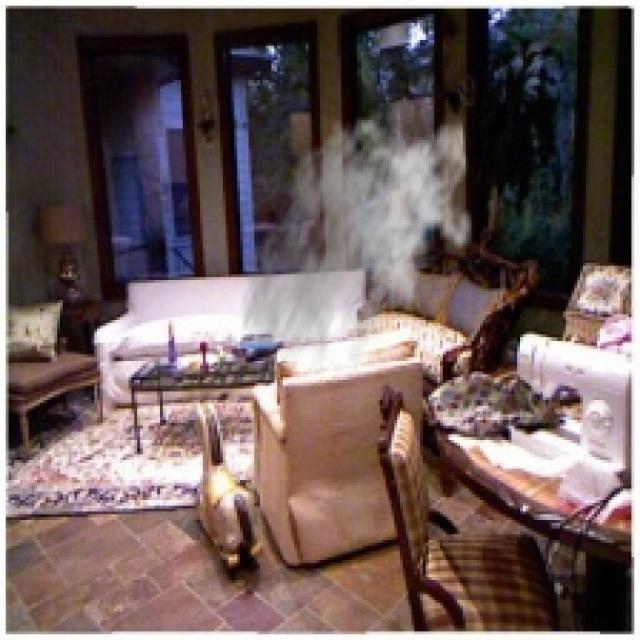smoke: (240, 106, 474, 386)
